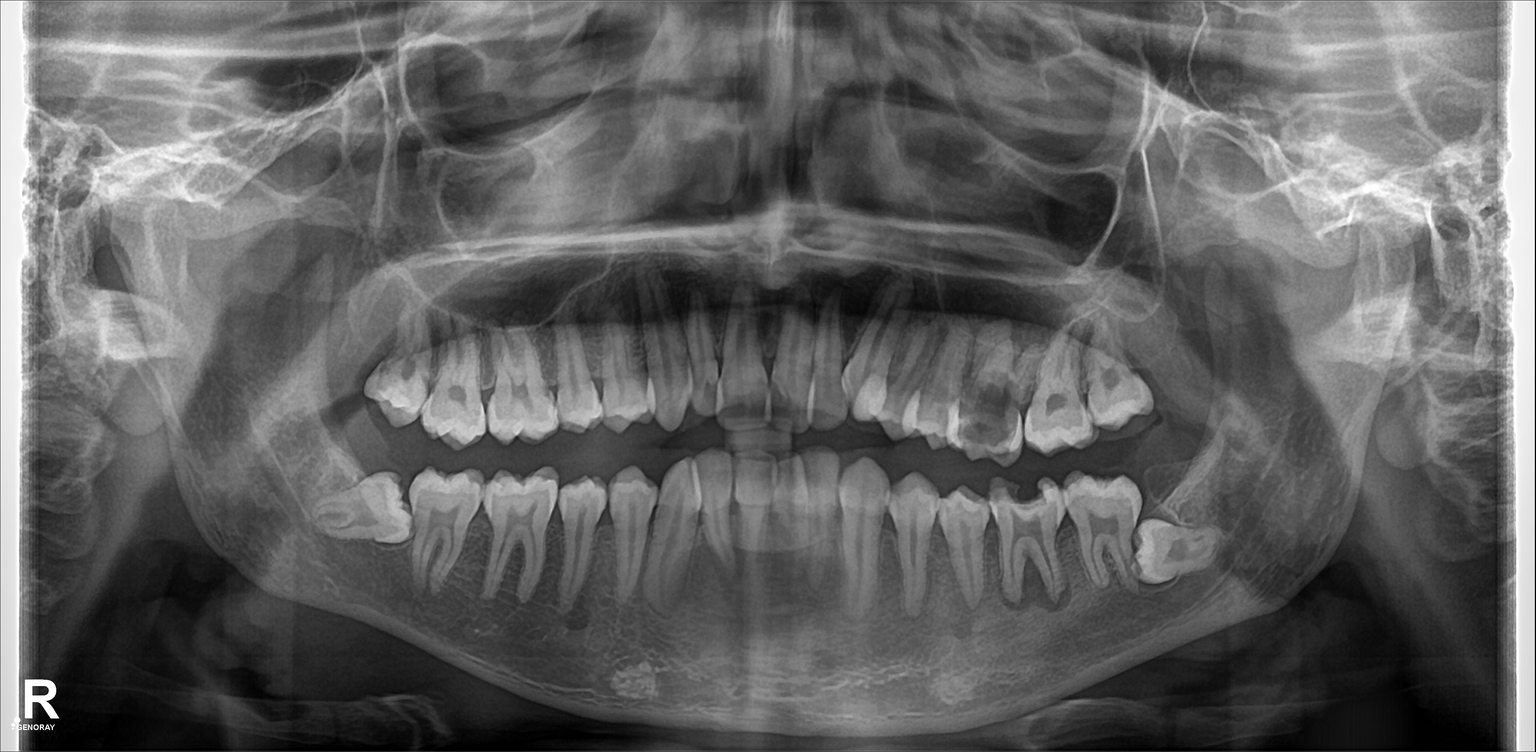Dental Caries: (965, 378, 1016, 445)
Impacted Third Molar: (305, 471, 422, 544), (1129, 521, 1232, 585)
Missing Tooth: (1132, 313, 1199, 414)
Periapical Lesion: (991, 493, 1074, 617)
